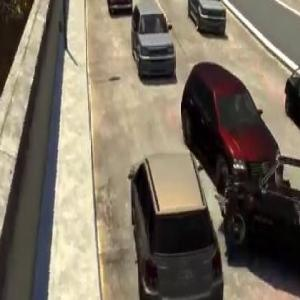negligible: (175, 52, 300, 268)
